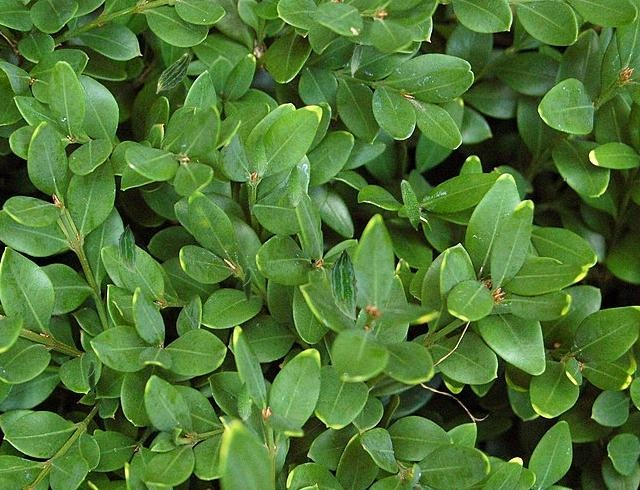ampalaya: (329, 246, 359, 320), (155, 52, 190, 94), (400, 179, 420, 231), (117, 224, 137, 273), (251, 133, 268, 178), (286, 163, 303, 208), (236, 380, 252, 422), (242, 262, 253, 304), (350, 41, 362, 77), (86, 356, 96, 395)
